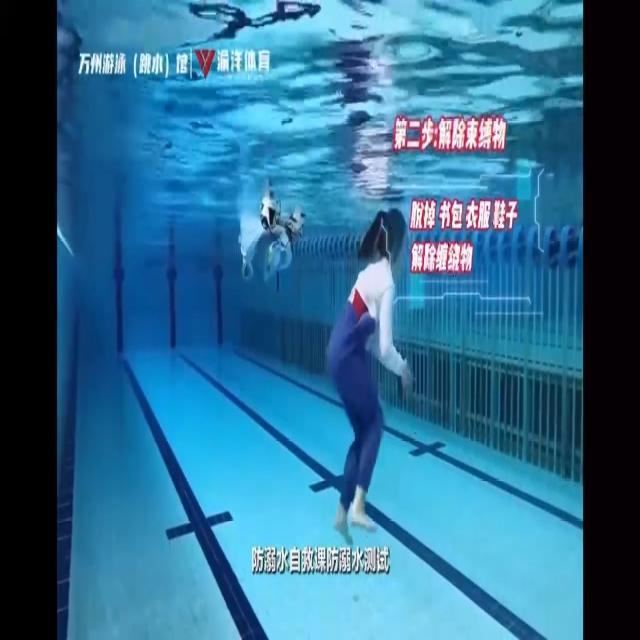Drowning: (328, 210, 410, 548)
